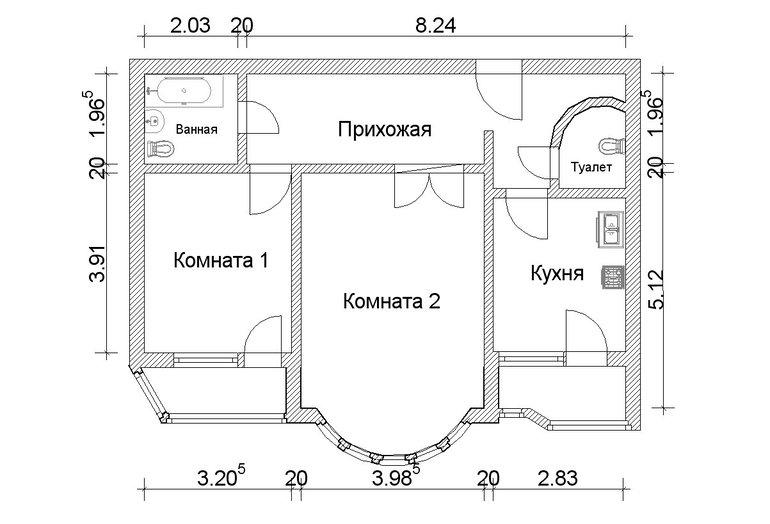balcony: (498, 367, 626, 420), (142, 367, 286, 414)
bathroom: (145, 74, 238, 165)
bedroom: (144, 173, 294, 352)
hallway: (246, 73, 626, 189)
kitchen: (494, 198, 626, 351)
living_room: (301, 172, 485, 455)
toilet: (560, 105, 626, 188)
